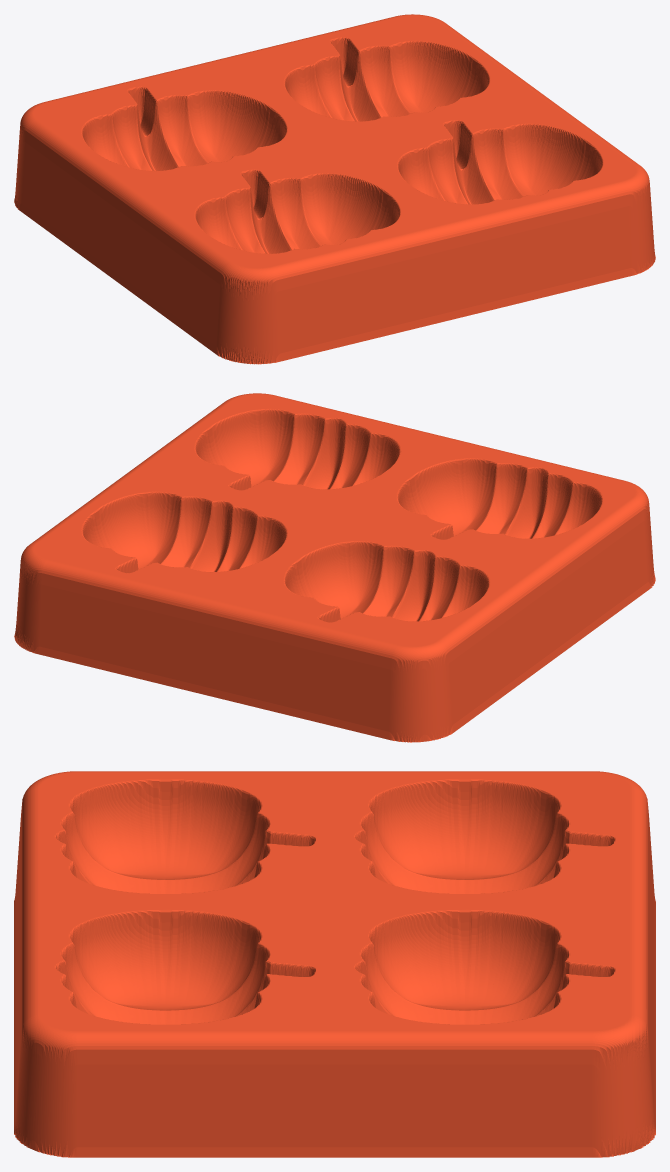
Rendered from mold.glb.
3 views of the same model, one above another, from view 1: azimuth 30°, elevation 25°; view 2: azimuth 150°, elevation 25°; view 3: azimuth 270°, elevation 25° (orthographic). The views are drawn at different scales.
Parts seen in each view (by area): view 1: geometry_0; view 2: geometry_0; view 3: geometry_0.
Part boxes in pixels (x1,y1,x2,y2): geometry_0: (14, 14, 655, 364); geometry_0: (14, 393, 655, 742); geometry_0: (14, 771, 655, 1157).
Bounding box in the file's own units: 0.0942 × 0.0182 × 0.0914.
